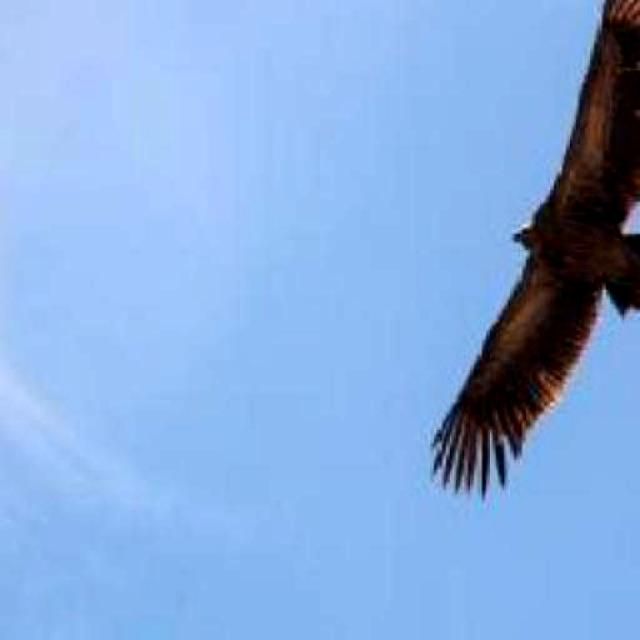airplane: (439, 0, 640, 489)
